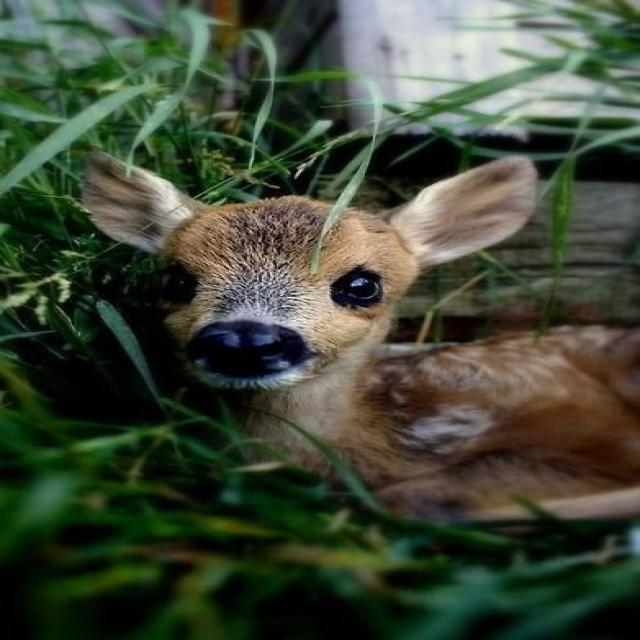not_pig: (77, 149, 638, 530)
